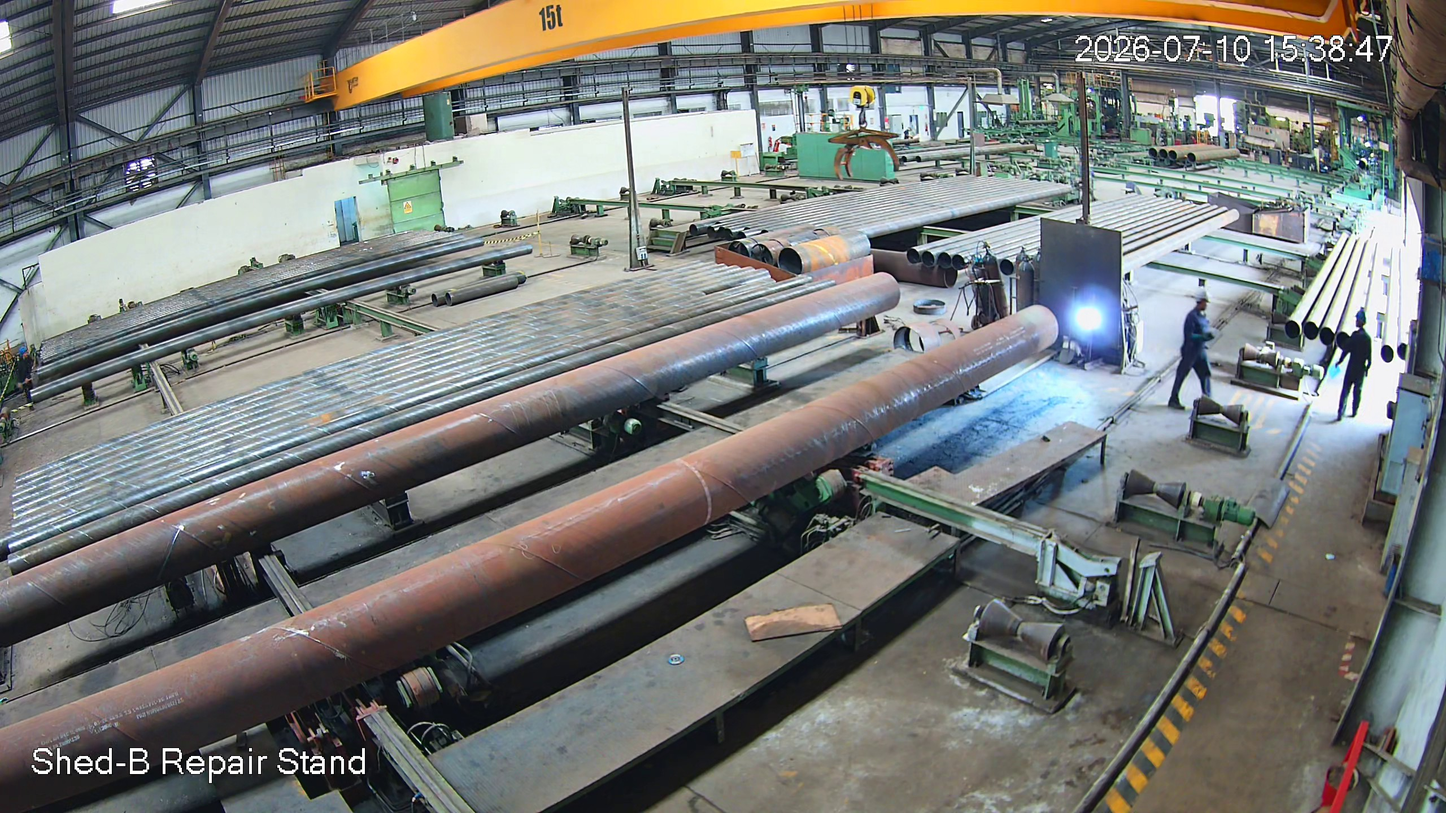Helmet: (1188, 284, 1214, 314), (1352, 310, 1373, 334)
Person: (1171, 294, 1221, 406), (1345, 311, 1373, 421)
